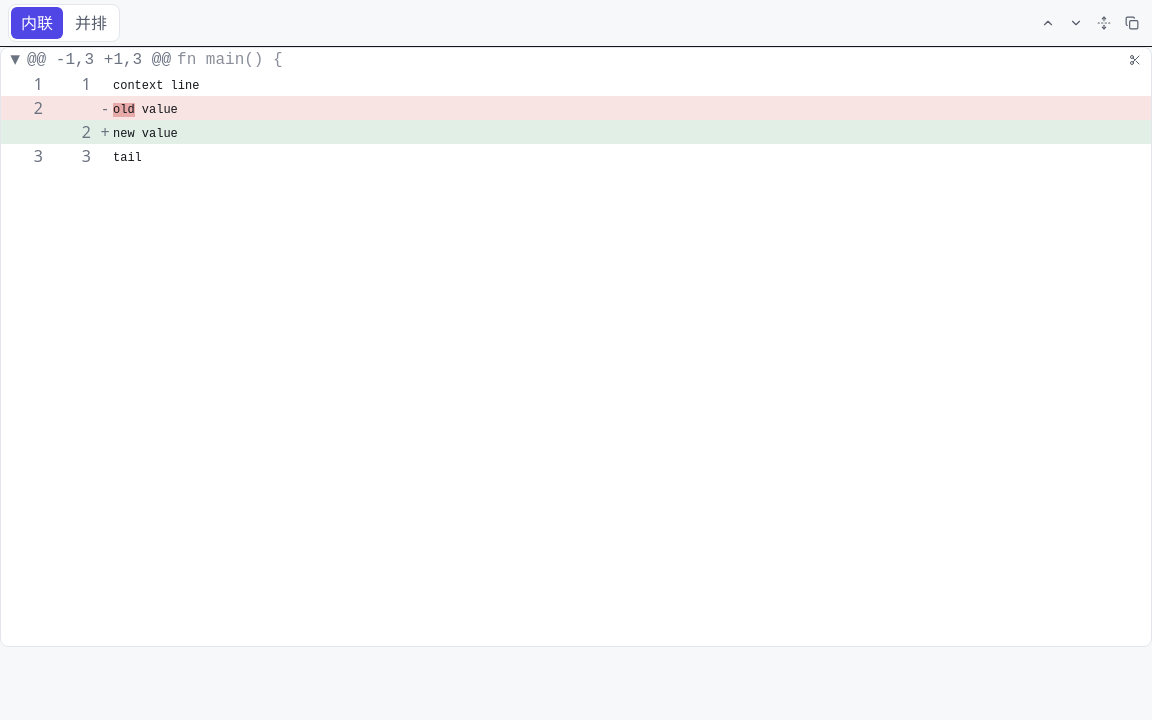
Test: DiffView › 点击 hunk 头折叠正文，再点击展开
Expected: the text "context line" is shown, x1=113 y1=78 x2=199 y2=92
Click the button "▶ @@ -1,3 +1,3 @@ fn main() {" at coordinates (99, 60), box x1=9 y1=48 x2=1119 y2=72
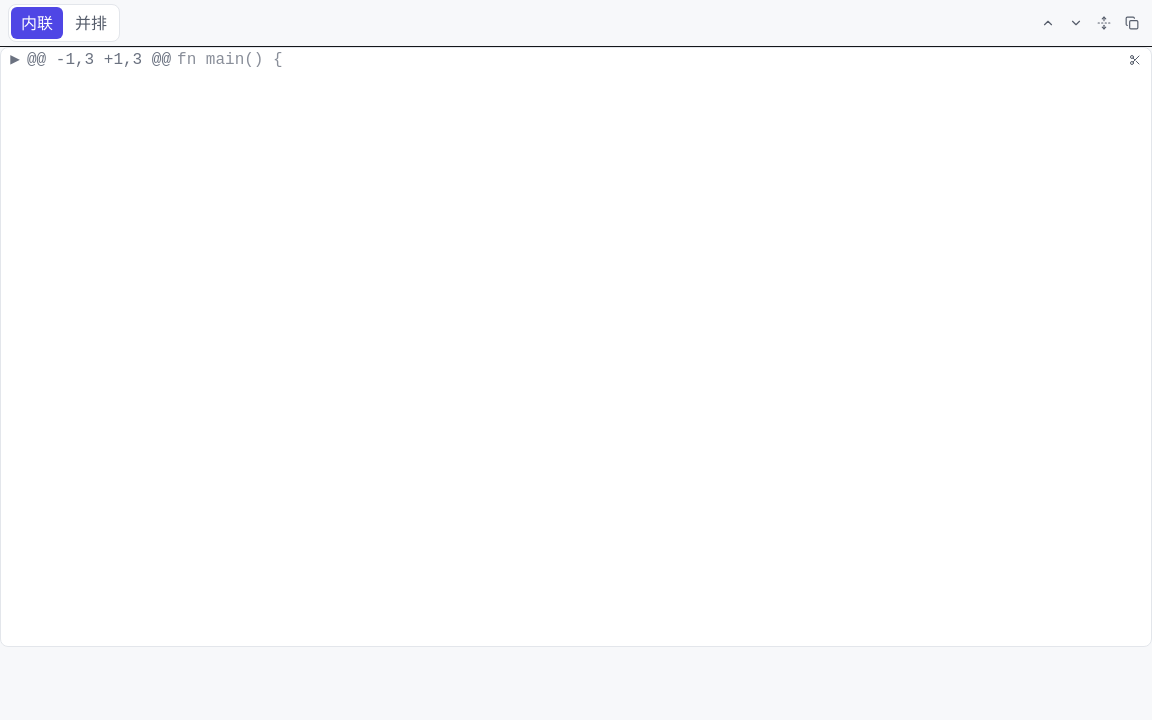
Result: the button "▶ @@ -1,3 +1,3 @@ fn main() {" is collapsed
Result: the text "context line" is gone
Click the button "▶ @@ -1,3 +1,3 @@ fn main() {" at coordinates (99, 60), box x1=9 y1=48 x2=1119 y2=72
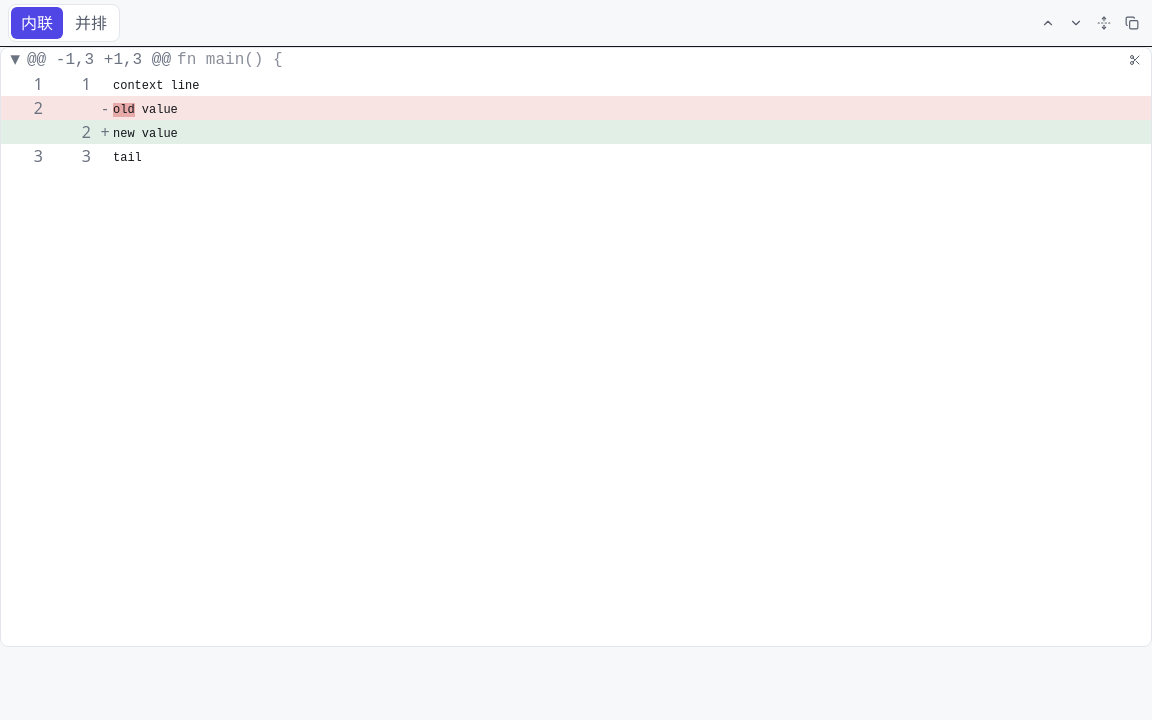
Result: the text "context line" is shown at x1=113 y1=78 x2=199 y2=92
